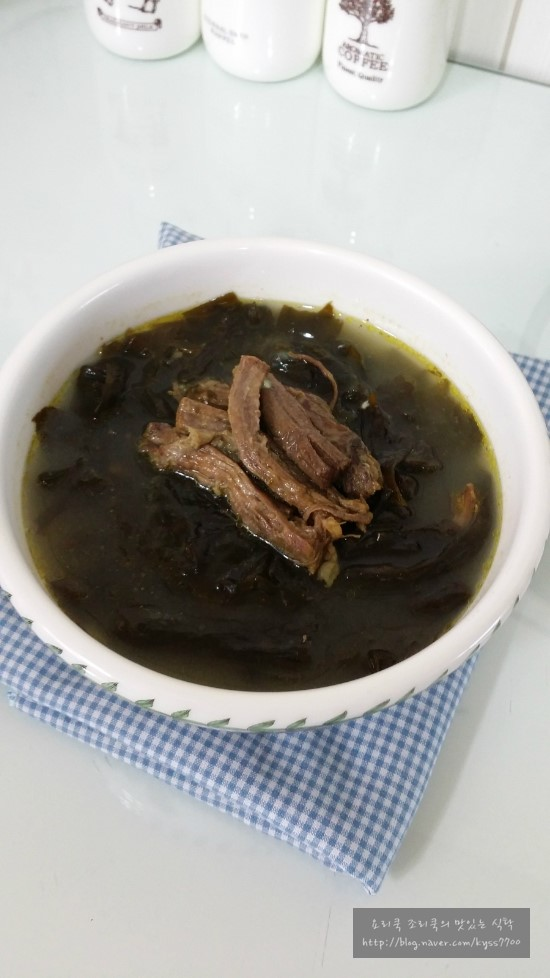miyeoggug: (0, 231, 535, 727)
